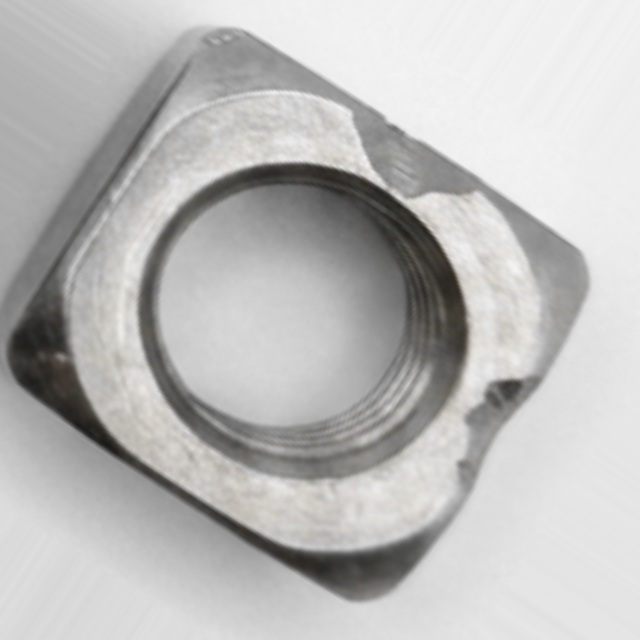defect: (344, 95, 486, 198), (459, 362, 552, 488)
